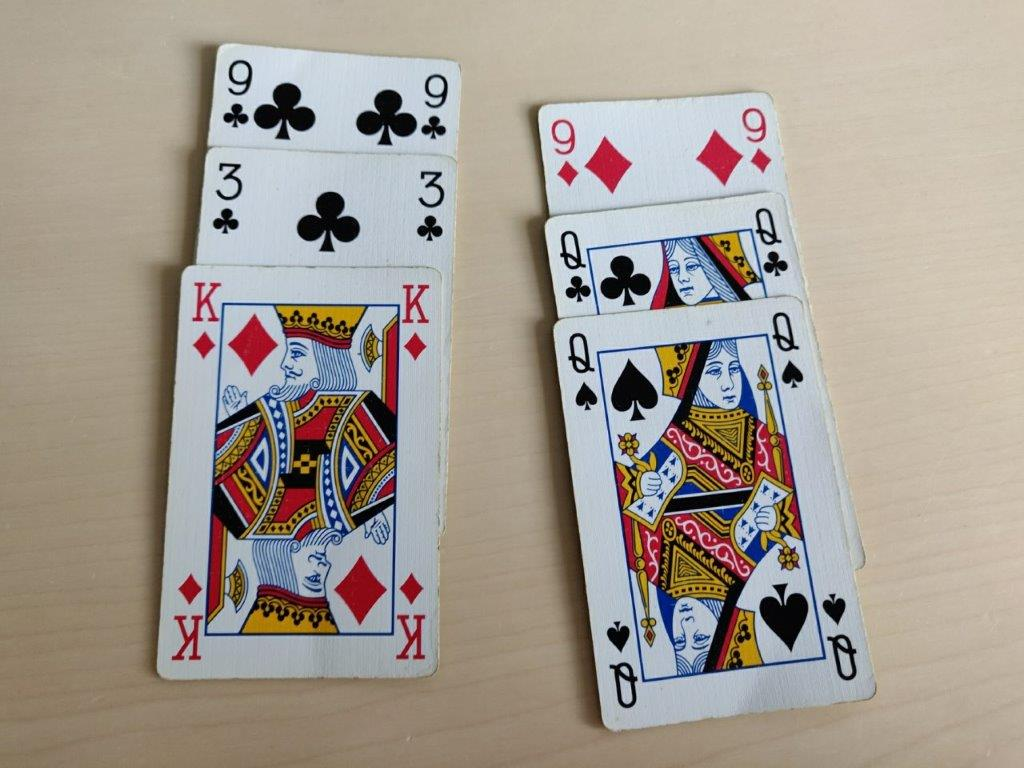3C: (413, 164, 450, 248), (210, 157, 247, 238)
9C: (218, 52, 257, 133), (420, 71, 451, 143)
9D: (544, 115, 582, 193), (739, 104, 776, 174)
KD: (185, 273, 221, 362), (395, 279, 433, 363)
QC: (748, 200, 794, 284), (550, 224, 596, 306)
QS: (560, 326, 603, 416), (769, 305, 806, 396)
